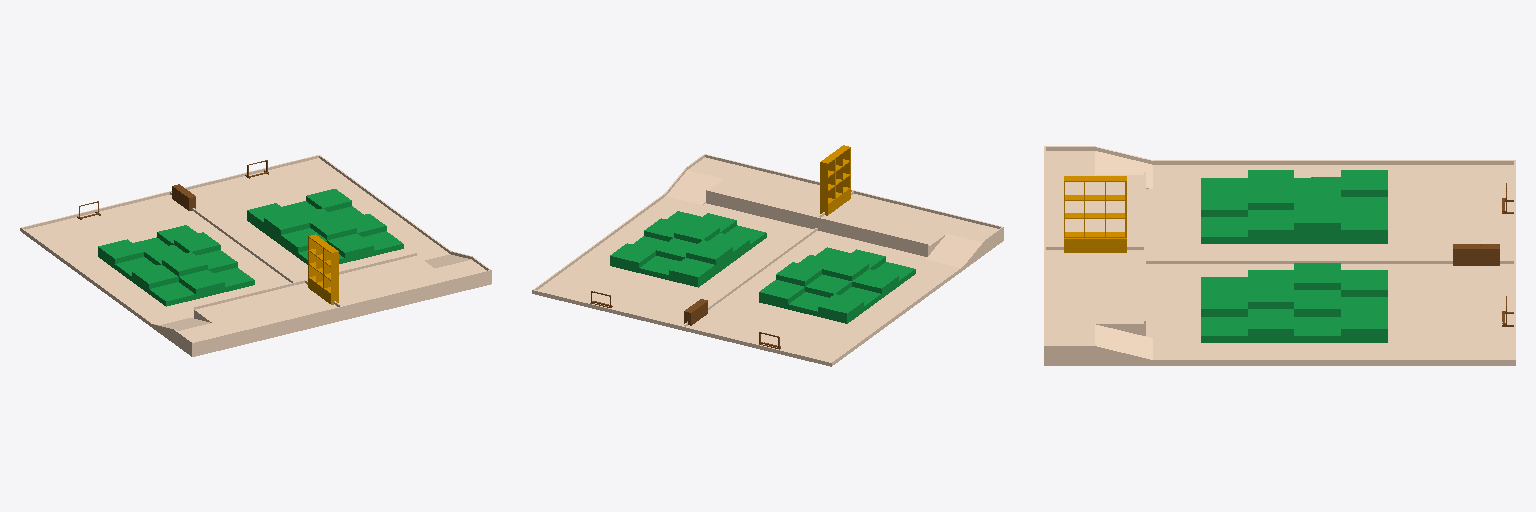
URDF robot description (abu_stadium):
<?xml version="1.0"?>
<robot name="abu_stadium">
  <link name="abu_stadium_link">
    <inertial>
      <origin xyz="0 0 0" rpy="0 0 0"/>
      <mass value="1.0"/>
      <inertia ixx="1.0" ixy="0.0" ixz="0.0" iyy="1.0" iyz="0.0" izz="1.0"/>
    </inertial>

    <!-- Keep the same orientation as the world model (roll +90 deg) and
         compensate mesh origin so its bottom rests near z=0 when spawned. -->
    <visual name="base_visual">
      <origin xyz="0 0 -1.2049" rpy="1.5708 0 0"/>
      <geometry>
        <mesh filename="package://mecanum4_description/meshes/abu_stadium/base_1.stl" scale="0.001 0.001 0.001"/>
      </geometry>
      <material name="base_beige">
        <color rgba="1.0 0.898 0.8 1.0"/>
      </material>
    </visual>

    <visual name="forest_visual">
      <origin xyz="0 0 -1.2049" rpy="1.5708 0 0"/>
      <geometry>
        <mesh filename="package://mecanum4_description/meshes/abu_stadium/forest_1.stl" scale="0.001 0.001 0.001"/>
      </geometry>
      <material name="forest_green">
        <color rgba="0.13 0.66 0.33 1.0"/>
      </material>
    </visual>

    <visual name="forest2_visual">
      <origin xyz="0 0 -1.2049" rpy="1.5708 0 0"/>
      <geometry>
        <mesh filename="package://mecanum4_description/meshes/abu_stadium/forest2_1.stl" scale="0.001 0.001 0.001"/>
      </geometry>
      <material name="forest2_green">
        <color rgba="0.13 0.66 0.33 1.0"/>
      </material>
    </visual>

    <visual name="spearhead_rack_visual">
      <origin xyz="0 0 -1.2049" rpy="1.5708 0 0"/>
      <geometry>
        <mesh filename="package://mecanum4_description/meshes/abu_stadium/spearhead_rack_1.stl" scale="0.001 0.001 0.001"/>
      </geometry>
      <material name="rack_brown">
        <color rgba="0.545 0.353 0.169 1.0"/>
      </material>
    </visual>

    <visual name="staff_rack_1_visual">
      <origin xyz="0 0 -1.2049" rpy="1.5708 0 0"/>
      <geometry>
        <mesh filename="package://mecanum4_description/meshes/abu_stadium/staff_rack_1.stl" scale="0.001 0.001 0.001"/>
      </geometry>
      <material name="rack_brown_2">
        <color rgba="0.545 0.353 0.169 1.0"/>
      </material>
    </visual>

    <visual name="staff_rack_2_visual">
      <origin xyz="0 0 -1.2049" rpy="1.5708 0 0"/>
      <geometry>
        <mesh filename="package://mecanum4_description/meshes/abu_stadium/staff_rack_2.stl" scale="0.001 0.001 0.001"/>
      </geometry>
      <material name="rack_brown_3">
        <color rgba="0.545 0.353 0.169 1.0"/>
      </material>
    </visual>

    <visual name="tic_tac_toe_rack_visual">
      <origin xyz="0 0 -1.2049" rpy="1.5708 0 0"/>
      <geometry>
        <mesh filename="package://mecanum4_description/meshes/abu_stadium/tic_tac_toe_rack_1.stl" scale="0.001 0.001 0.001"/>
      </geometry>
    </visual>

    <collision name="base_collision">
      <origin xyz="0 0 -1.2049" rpy="1.5708 0 0"/>
      <geometry>
        <mesh filename="package://mecanum4_description/meshes/abu_stadium/base_1.stl" scale="0.001 0.001 0.001"/>
      </geometry>
    </collision>
  </link>

  <gazebo>
    <static>true</static>
  </gazebo>
</robot>

--- What the picture shows (computed from the rendered views, not written in the file) ---
The picture shows the robot from 3 angles, left to right: view 1: azimuth 30°, elevation 25°; view 2: azimuth 150°, elevation 25°; view 3: azimuth 270°, elevation 25°; orthographic projection.
Model abu_stadium with 1 links and 0 joints (none), rooted at abu_stadium_link, posed all joints at 0.
Links seen in each view (by area): view 1: abu_stadium_link; view 2: abu_stadium_link; view 3: abu_stadium_link.
Link boxes in pixels (<box>): abu_stadium_link: <box>20,155,491,356</box>; abu_stadium_link: <box>532,145,1003,366</box>; abu_stadium_link: <box>1044,146,1515,365</box>.
Size in the robot's own frame: 12.15 by 12.1 by 2.47 metres.
Meshes: 7 distinct files referenced, 7 mesh visuals loaded (7 binary STL).
